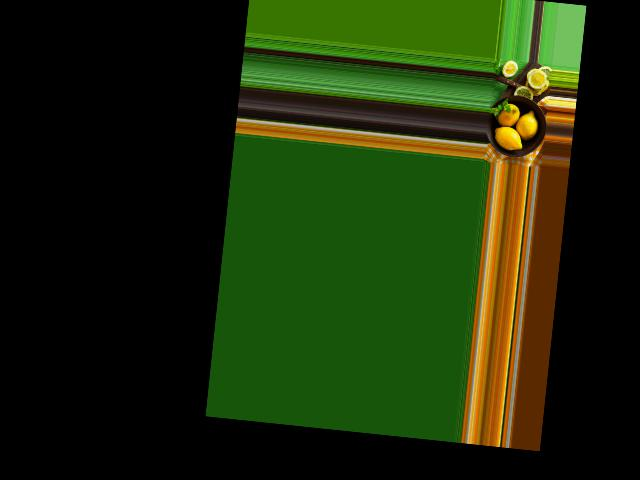lemon: (489, 122, 526, 155)
